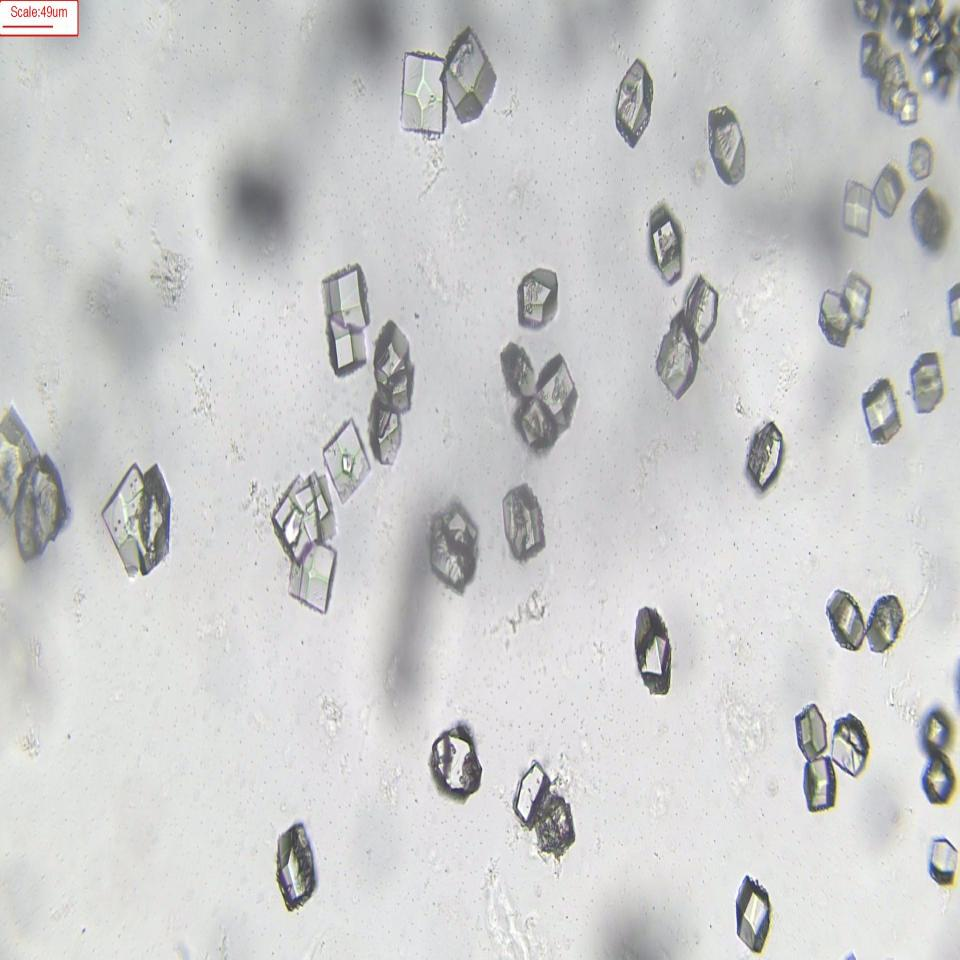crystal: (12, 459, 73, 561), (428, 500, 478, 594), (441, 32, 495, 118), (397, 50, 446, 143), (654, 310, 703, 402), (373, 313, 421, 401), (430, 723, 482, 802), (362, 396, 408, 482), (322, 420, 369, 504), (275, 823, 318, 912), (735, 875, 782, 954), (636, 605, 673, 700), (513, 394, 563, 464), (536, 356, 582, 430), (615, 58, 652, 146), (503, 487, 548, 557), (708, 106, 745, 185), (517, 272, 566, 328), (861, 378, 901, 444), (648, 204, 681, 283), (747, 421, 784, 491), (826, 589, 866, 651), (832, 714, 870, 778), (496, 340, 541, 394), (684, 275, 719, 343), (537, 802, 577, 860), (866, 594, 904, 653), (909, 351, 945, 413), (838, 268, 874, 330), (793, 700, 830, 759), (515, 763, 549, 827), (924, 752, 956, 811), (845, 174, 874, 238), (804, 759, 836, 816), (818, 286, 850, 341), (926, 836, 959, 889), (873, 164, 900, 219), (922, 706, 951, 753), (907, 135, 932, 181)
not_crystal: (108, 478, 171, 571)
